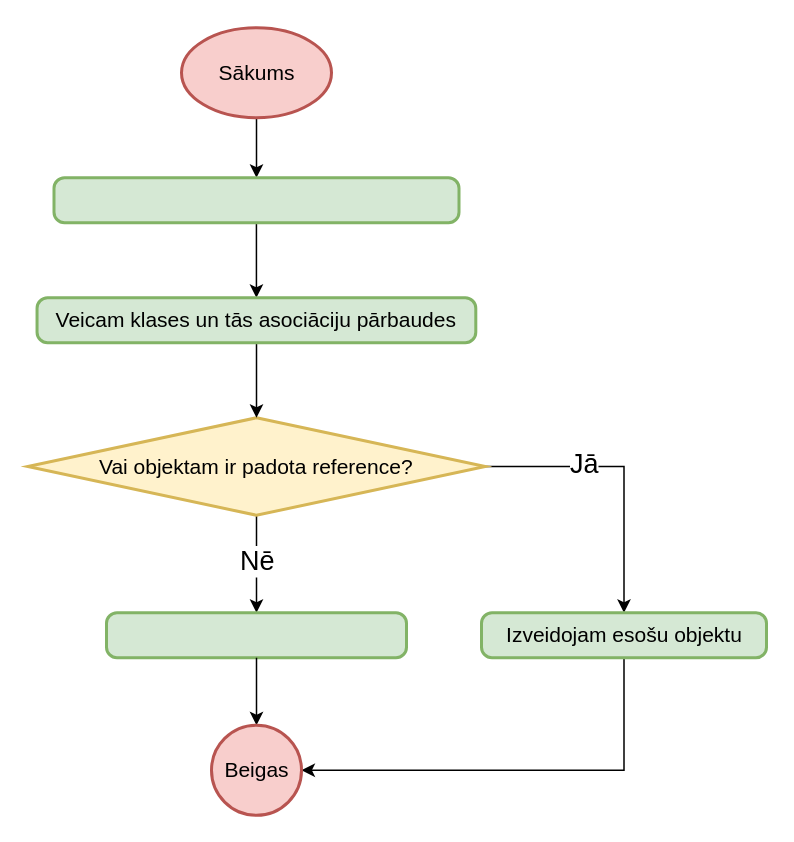
Some shapes in this 794 by 842 pixel diagram are drawn without their labels. The shapes that lost their labels are listed below. From the top down, each one's box as (x1, y1, x2, y2) in pixels, then its label:
(52, 176, 460, 224): Saglabājam WebMemory un WebCalls
(104, 610, 407, 658): Izveidojam jaunu objektu
